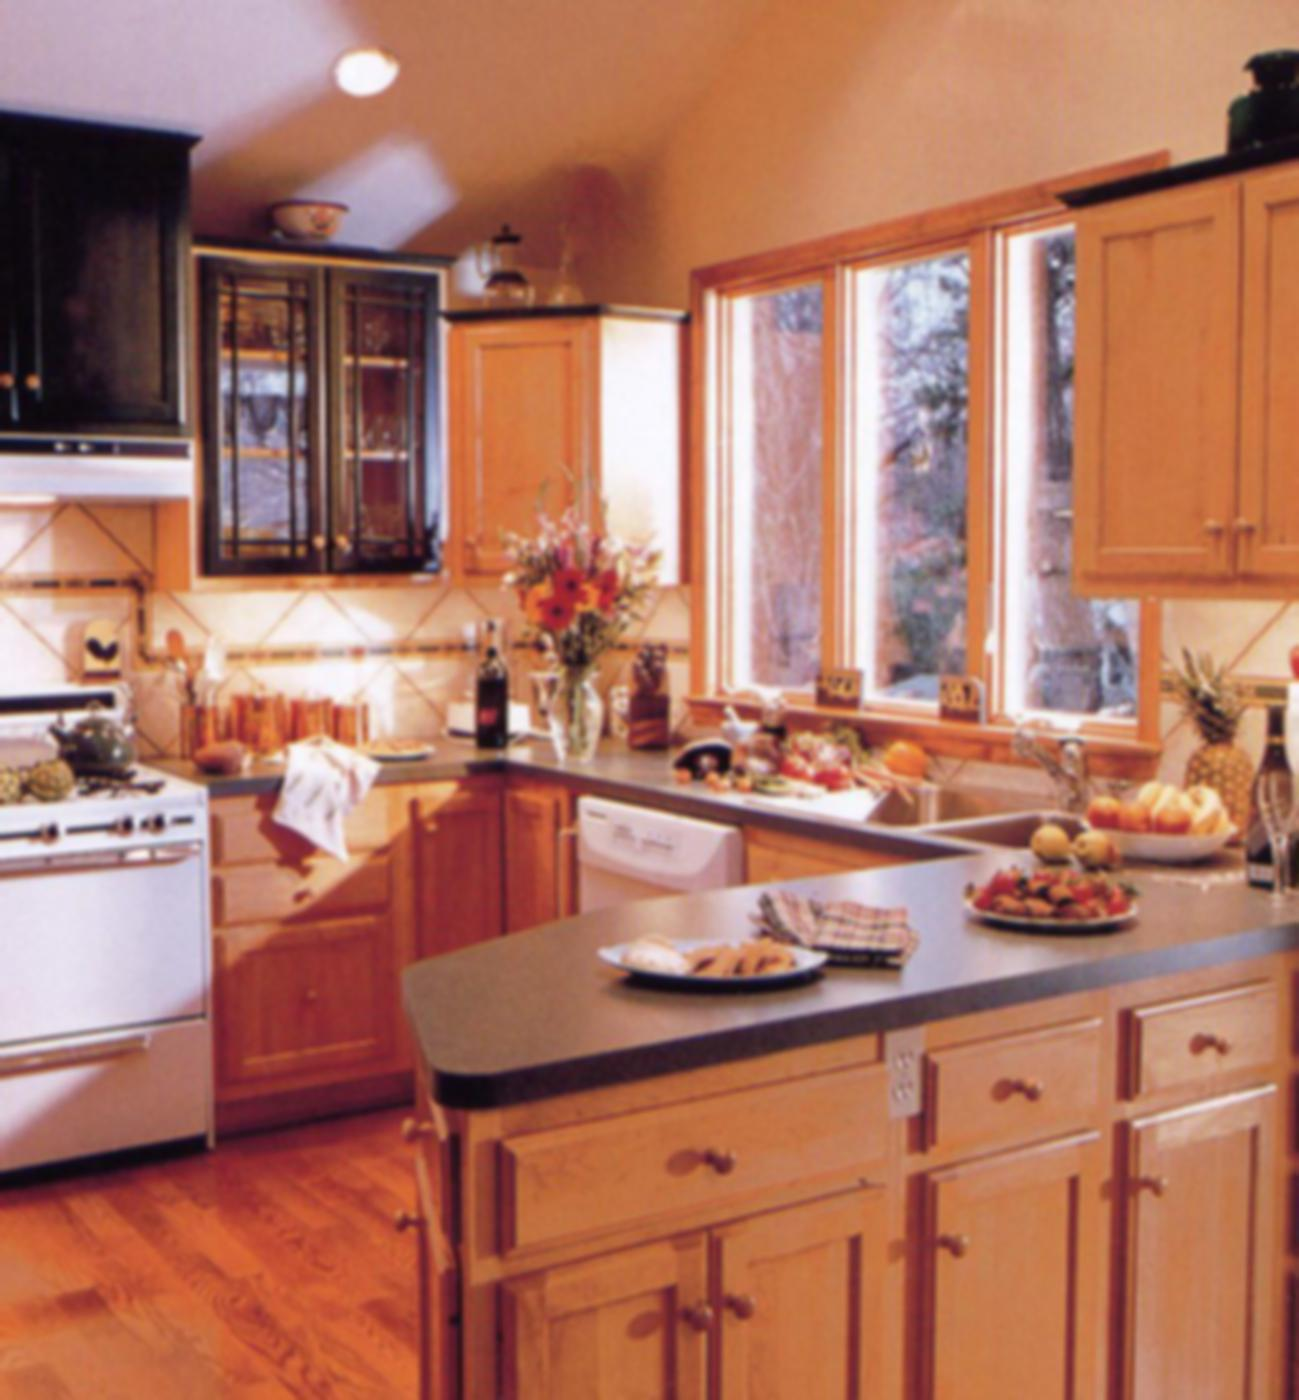Electrodomestico: (0, 815, 212, 1150)
